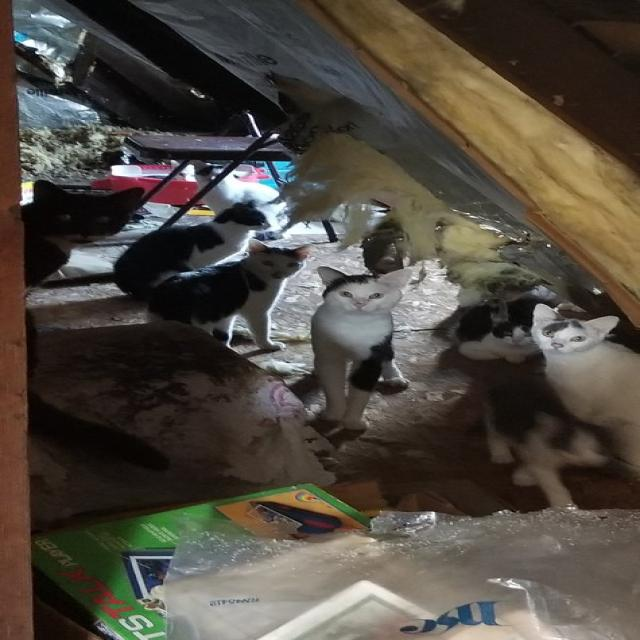cat: (531, 304, 640, 472), (149, 240, 311, 351), (311, 269, 409, 439), (484, 380, 609, 507), (113, 202, 269, 298), (22, 181, 141, 286), (455, 288, 560, 363), (366, 221, 404, 270)
